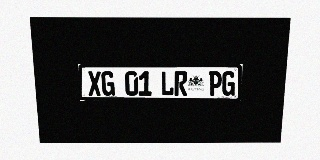0: (125, 71, 138, 96)
1: (138, 71, 151, 96)
G: (101, 71, 115, 96), (221, 71, 235, 96)
L: (161, 71, 174, 96)
P: (208, 71, 222, 96)
R: (174, 71, 187, 96)
X: (87, 71, 101, 96)
